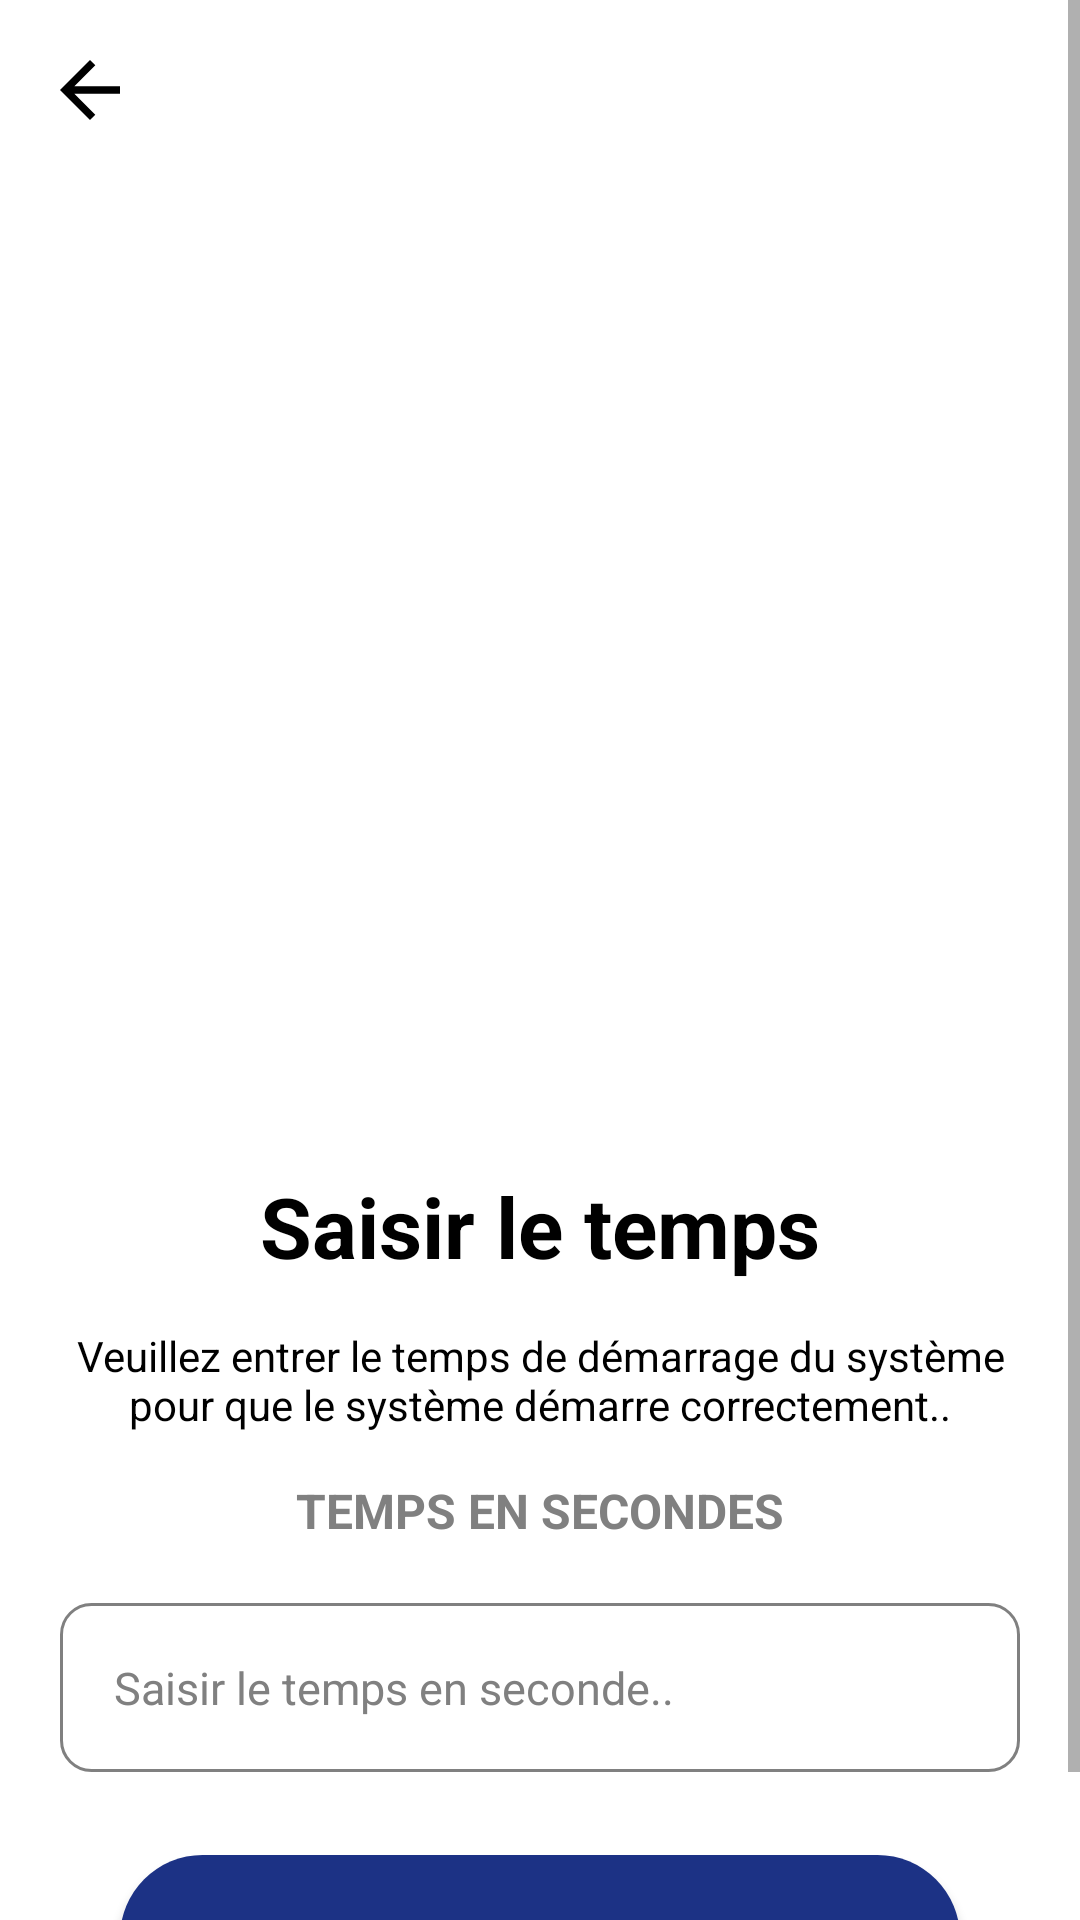

Named icons in this screenshot (1080 x 1920) and their bounding boxes, [left=x1, top=y1, right=x2, bottom=y2]:
back: [left=60, top=60, right=120, bottom=120]
